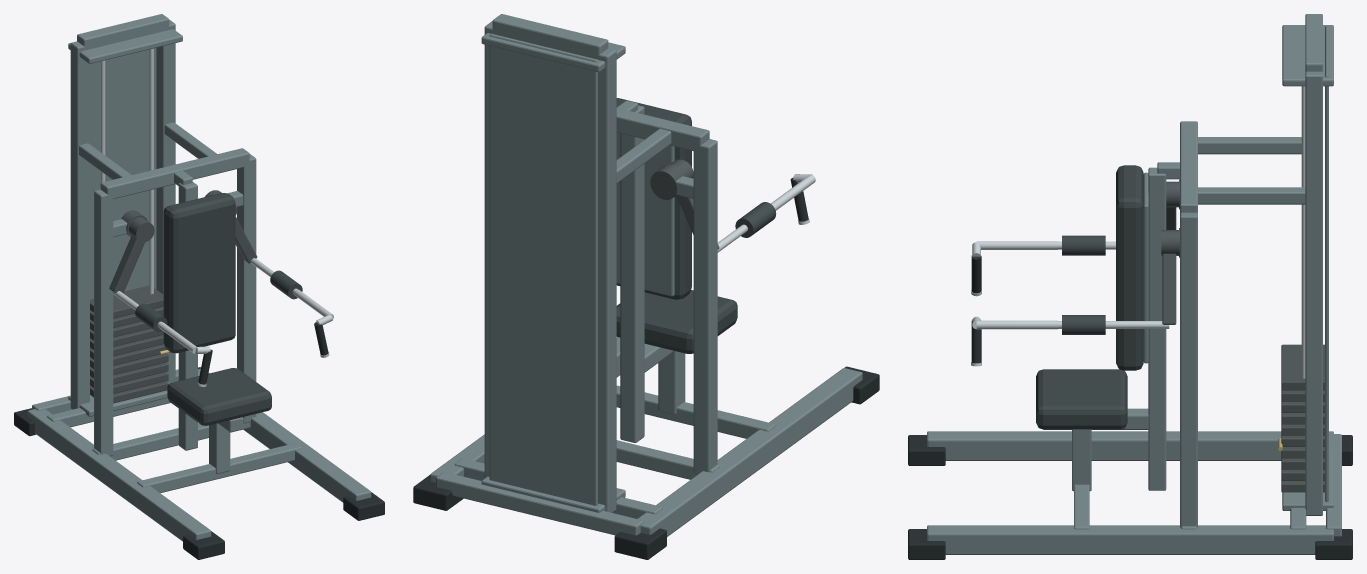
The model's file is lateral-raise-machine.v1.glb.
3 views of the same model, side by side, from view 1: azimuth 30°, elevation 25°; view 2: azimuth 150°, elevation 25°; view 3: azimuth 270°, elevation 25° (orthographic). The views are drawn at different scales.
Parts seen in each view (by area): view 1: Back pad backing, Back cushion, Moving stack plate, Floor shoe, Weight guide, Lever arm.001, Handle bridge.001, Handle bridge, Lever arm, Arm pad, Arm pad.001; view 2: Back pad backing, Back cushion, Floor shoe, Handle bridge.001, Bearing housing, Arm pad.001, Lever arm.001; view 3: Back pad backing, Back cushion, Moving stack plate, Floor shoe, Lever arm, Handle bridge, Weight guide, Handle bridge.001, Arm pad.001, Arm pad, Lever arm.001.
Boxes of the visible parts, <box> form: Back pad backing: <box>27,14,371,541</box>; Back cushion: <box>163,193,271,425</box>; Moving stack plate: <box>90,285,168,403</box>; Floor shoe: <box>14,367,384,559</box>; Weight guide: <box>100,48,153,294</box>; Lever arm.001: <box>109,217,154,293</box>; Handle bridge.001: <box>113,291,210,386</box>; Handle bridge: <box>251,258,333,357</box>; Lever arm: <box>235,206,257,263</box>; Arm pad: <box>270,270,302,299</box>; Arm pad.001: <box>135,303,167,332</box>; Back pad backing: <box>430,14,862,536</box>; Back cushion: <box>616,98,737,353</box>; Floor shoe: <box>413,366,879,559</box>; Handle bridge.001: <box>717,174,815,252</box>; Bearing housing: <box>650,164,685,199</box>; Arm pad.001: <box>735,202,776,237</box>; Lever arm.001: <box>670,159,719,249</box>; Back pad backing: <box>927,14,1341,554</box>; Back cushion: <box>1036,165,1143,429</box>; Moving stack plate: <box>1281,344,1324,492</box>; Floor shoe: <box>908,435,1352,559</box>; Lever arm: <box>1161,230,1178,324</box>; Handle bridge: <box>971,316,1169,366</box>; Weight guide: <box>1301,86,1305,378</box>; Handle bridge.001: <box>971,241,1115,296</box>; Arm pad.001: <box>1062,235,1105,255</box>; Arm pad: <box>1062,315,1105,334</box>; Lever arm.001: <box>1166,181,1178,229</box>.
Bounding box in the file's own units: 1.31 × 2.59 × 2.24.
